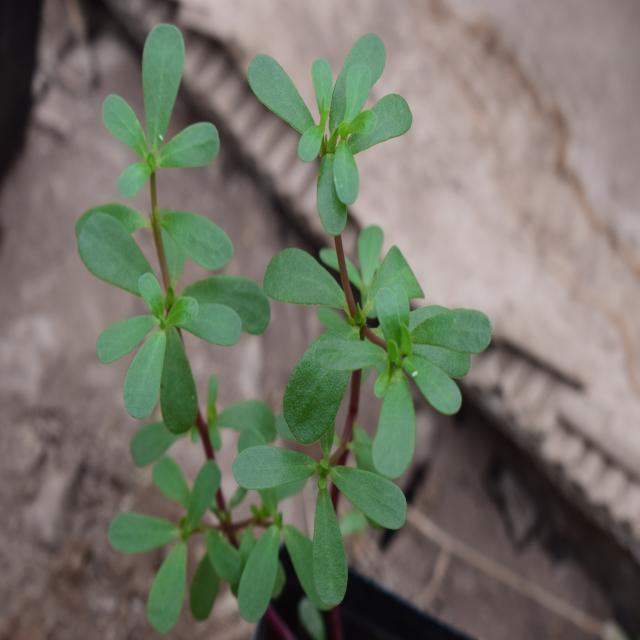purslane: (93, 19, 486, 598)
